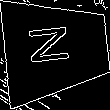N_E: (31, 27, 81, 72)
